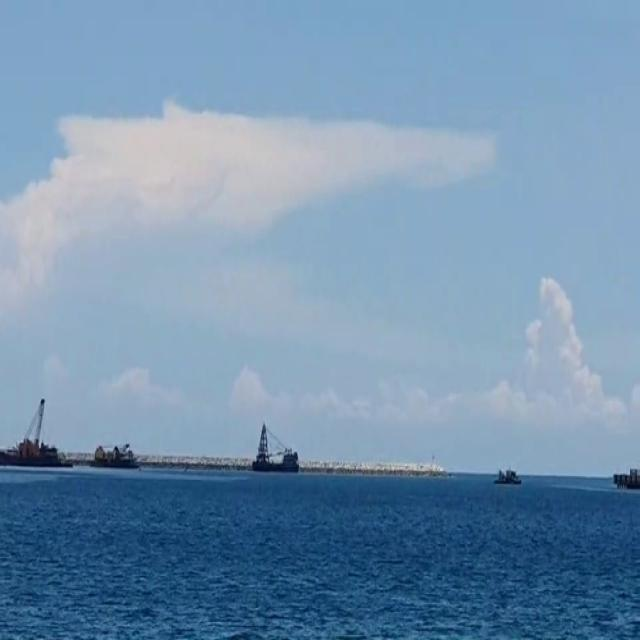civilianship: (2, 398, 69, 483), (230, 424, 310, 474)
